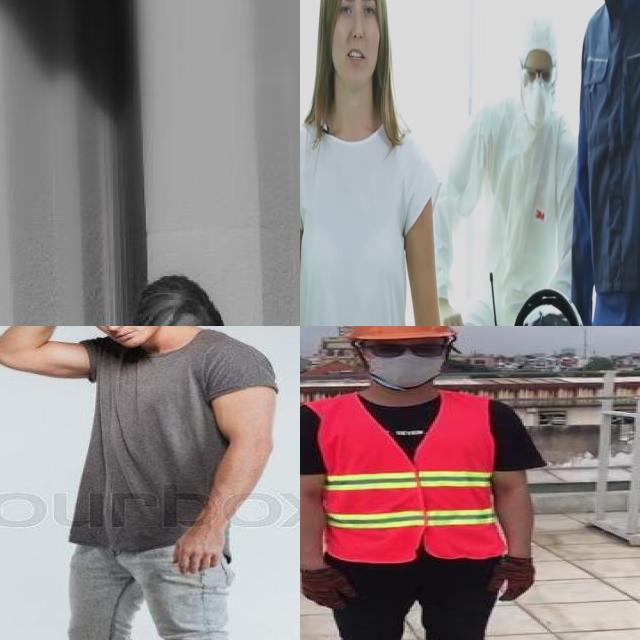No_Glasses: (333, 0, 377, 30)
face_mask: (360, 335, 451, 386)
face_nomask: (98, 326, 150, 347)
glasses: (362, 338, 453, 362)
hand_glove: (483, 555, 536, 602), (300, 569, 358, 609)
hand_noglove: (167, 497, 236, 580)
head_helmet: (300, 326, 562, 640), (341, 326, 460, 341)
head_nohelmet: (129, 272, 228, 326)
person: (0, 326, 279, 640), (300, 0, 448, 326)
vest: (308, 395, 502, 560)
